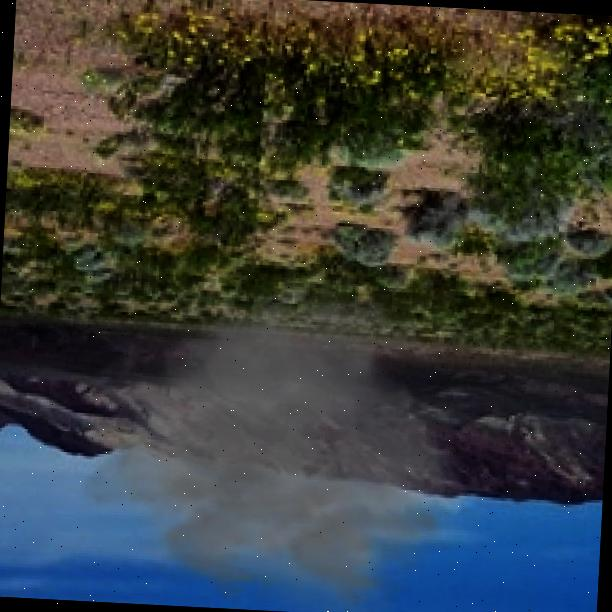smoke: (69, 249, 484, 612)
